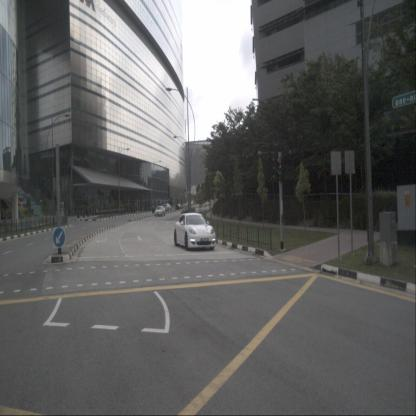human-pedestrian-adult: (151, 203, 155, 216)
vehicle-car: (174, 212, 216, 252), (155, 206, 165, 217), (162, 204, 172, 212), (176, 203, 183, 210)
